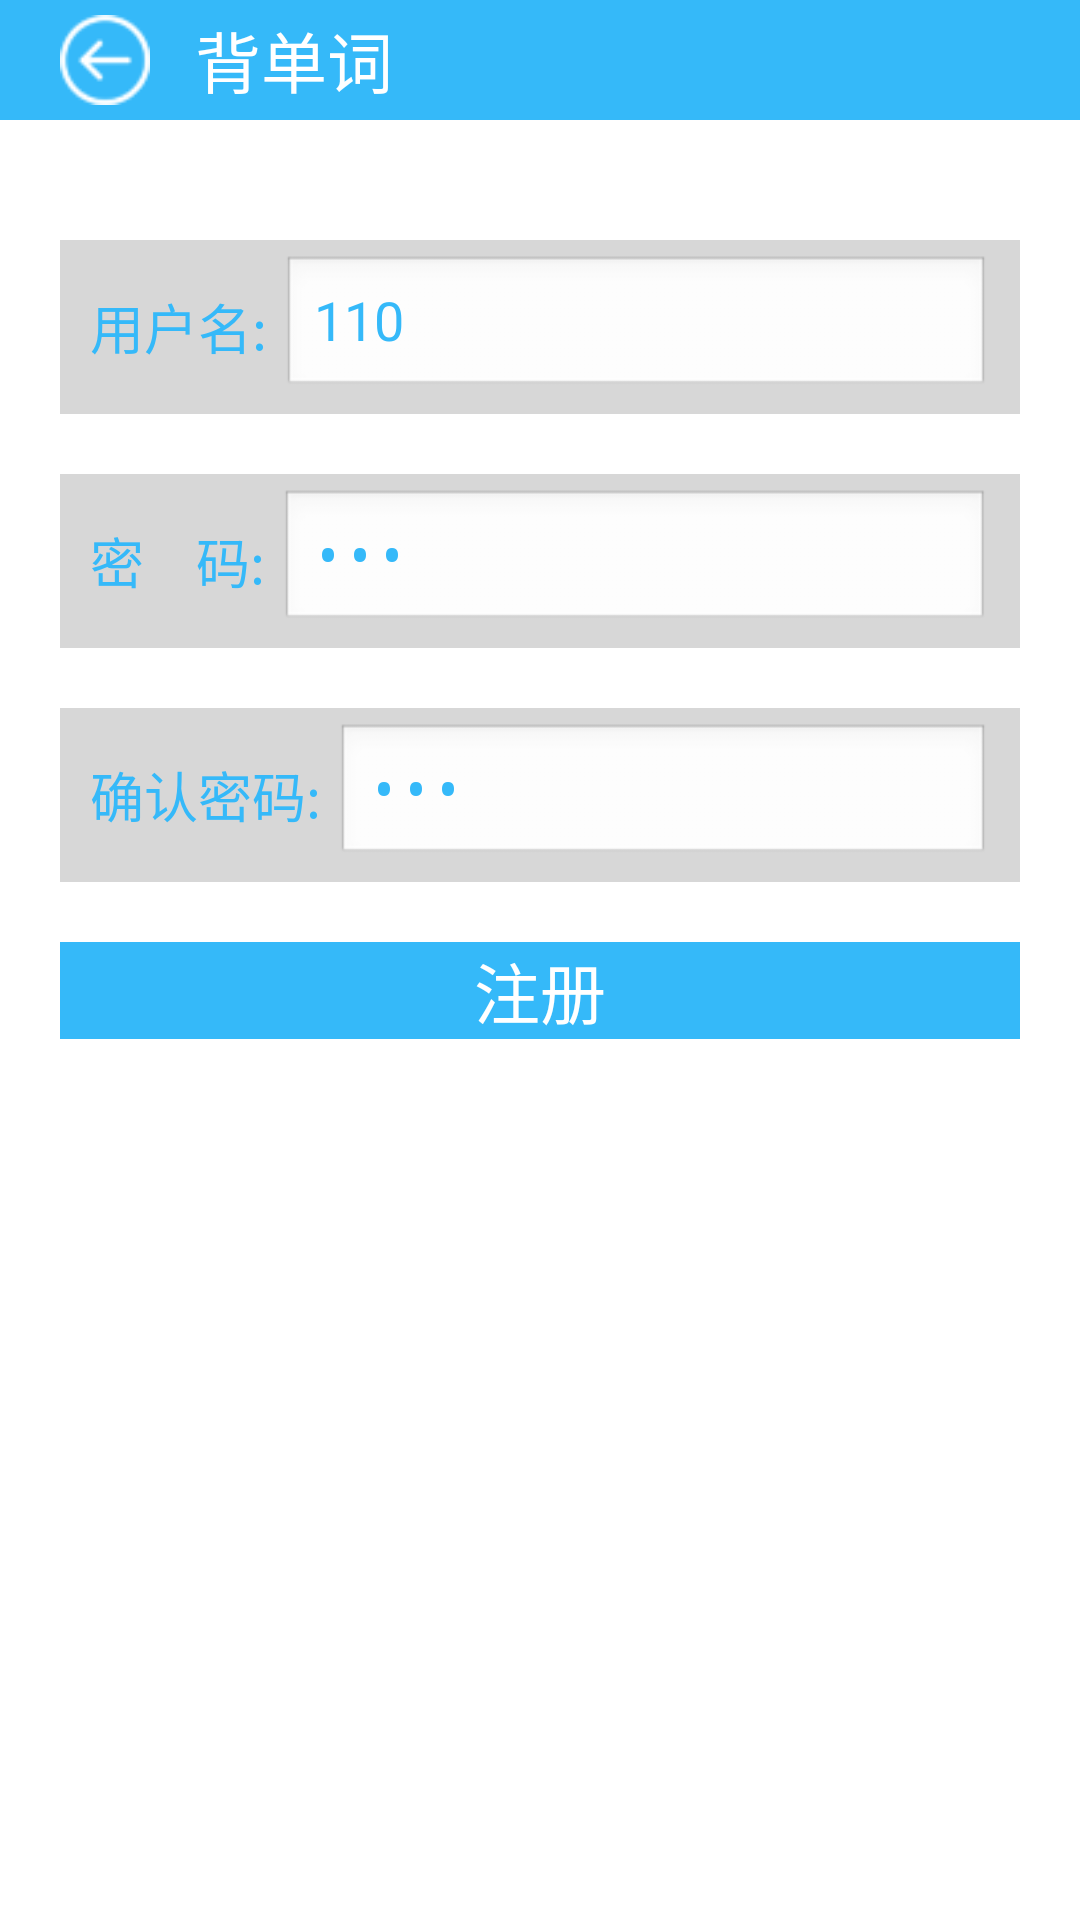

Screen size 1080 × 1920. Icon name, then its box in pixels as region(x1, y1, x2, y2):
login back: region(60, 15, 150, 105)
